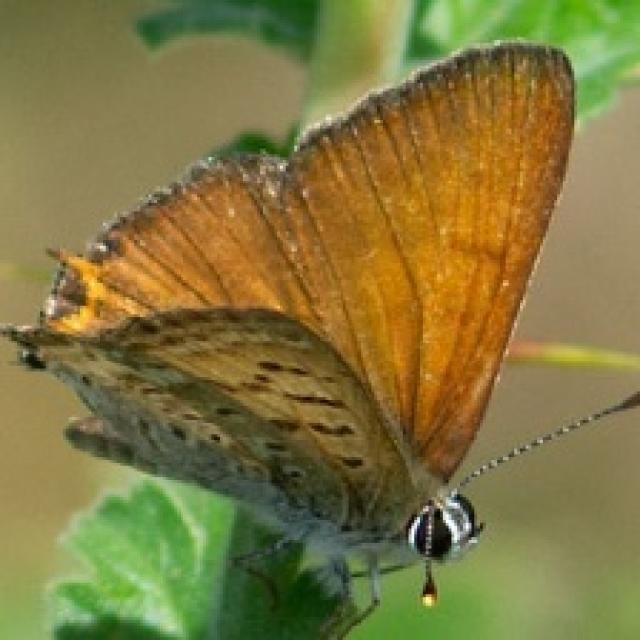butterfly: (0, 37, 637, 637)
